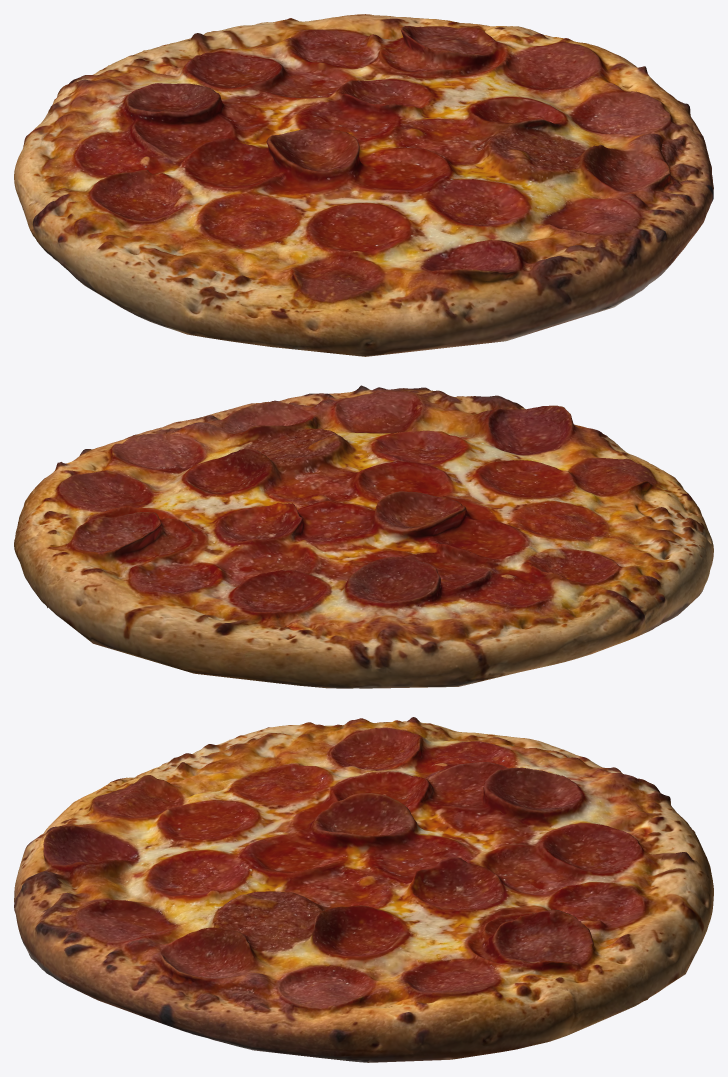
The model's file is pizza-12in.glb.
3 views of the same model, one above another, from view 1: azimuth 30°, elevation 25°; view 2: azimuth 150°, elevation 25°; view 3: azimuth 270°, elevation 25° (orthographic). The views are drawn at different scales.
Parts seen in each view (by area): view 1: pizza-true-size; view 2: pizza-true-size; view 3: pizza-true-size.
Part boxes in pixels (left/top/right/bottom): pizza-true-size: left=14, top=14, right=713, bottom=356; pizza-true-size: left=14, top=385, right=713, bottom=688; pizza-true-size: left=14, top=717, right=713, bottom=1062.
Size of the model in its own units: 0.3048 by 0.0383 by 0.2949.
1 material, 1 textured.
